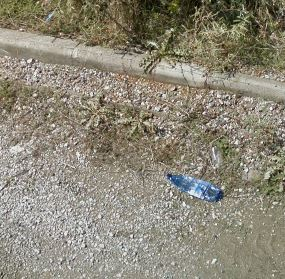trash: (163, 167, 229, 206)
